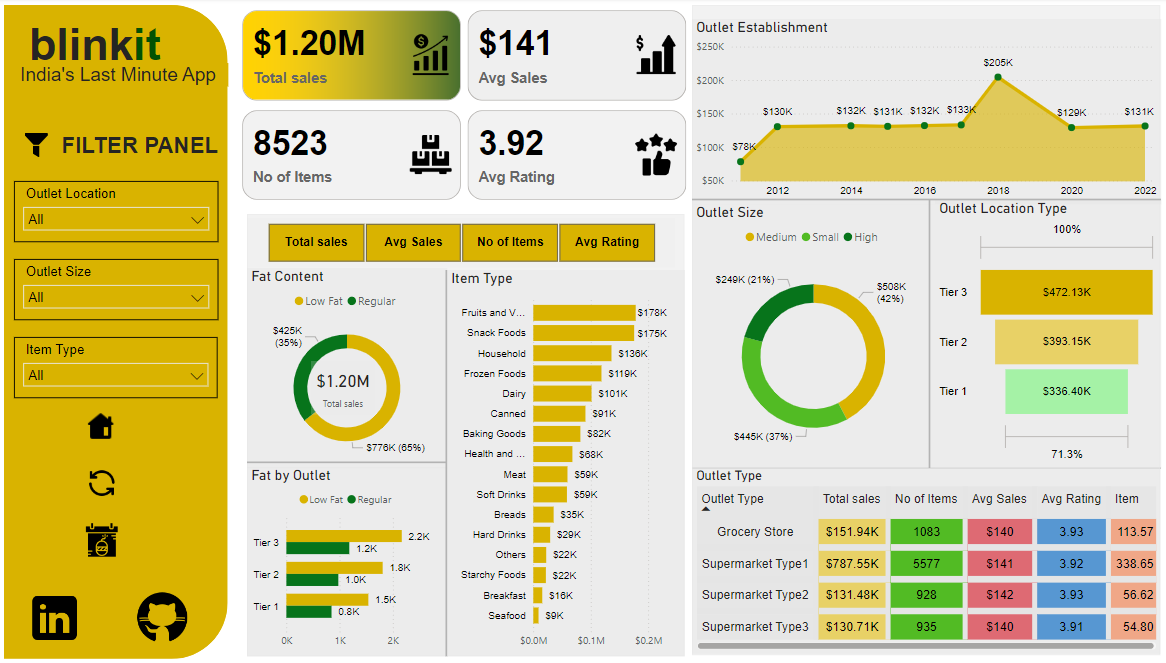

This screenshot's page, from the dashboard's own definition file:
{"tool":"powerbi","page":{"name":"Page 1","canvas":[1400,800],"ordinal":0},"visuals":[{"type":"shape","box":[9.9,8.5,266.7,780.4],"z":0},{"type":"actionButton","title":"blink","box":[14.1,25.4,149.6,66.3],"z":1000},{"type":"actionButton","title":"it","box":[163.7,25.4,80.4,66.3],"z":2000},{"type":"actionButton","title":"India''s Last Minute App","box":[14.1,77.6,262.5,28.2],"z":3000},{"type":"image","box":[9.9,155.2,76.2,40.9],"z":4000},{"type":"actionButton","title":"FILTER PANEL","box":[62.1,160.9,203.2,31],"z":5000},{"type":"slicer","fields":{"Values":["BlinkIT Grocery Data.Outlet Location Type"]},"box":[21.2,218.8,244.2,73.4],"z":6000},{"type":"slicer","fields":{"Values":["BlinkIT Grocery Data.Outlet Size"]},"box":[21.2,311.7,244.2,73.4],"z":7000},{"type":"slicer","fields":{"Values":["BlinkIT Grocery Data.Item Type"]},"box":[21.5,404.6,243.5,72.8],"z":8000},{"type":"cardVisual","fields":{"Data":["Measure Table.Total sales","Measure Table.Avg Sales"]},"box":[289.3,9.9,541.9,118.5],"z":9000},{"type":"cardVisual","fields":{"Data":["Measure Table.No of Items","Measure Table.Avg Rating"]},"box":[289.3,128.4,541.9,117.1],"z":10000},{"type":"shape","box":[299.2,258.3,522.2,527.8],"z":11000},{"type":"slicer","fields":{"Values":["Metrics.Metrics"]},"box":[299.2,262.5,510.9,59.3],"z":12000},{"type":"donutChart","title":" Fat Content","fields":{"Category":["BlinkIT Grocery Data.Item Fat Content"],"Y":["Measure Table.Total sales"]},"box":[299.2,321.8,238.5,238.5],"z":12001},{"type":"card","fields":{"Values":["Measure Table.Total sales"]},"box":[375.4,433.3,76.2,63.5],"z":12002},{"type":"barChart","title":"Item Type","fields":{"Category":["BlinkIT Grocery Data.Item Type"],"Y":["Measure Table.Total sales"]},"box":[538.3,324.6,284.1,460.7],"z":12003},{"type":"clusteredBarChart","title":" Fat by Outlet ","fields":{"Y":["CountNonNull(BlinkIT Grocery Data.Item Fat Content)"],"Category":["BlinkIT Grocery Data.Outlet Location Type"],"Series":["BlinkIT Grocery Data.Item Fat Content"]},"box":[299.2,560.3,238.5,225.8],"z":12004},{"type":"shape","box":[830.7,551.4,559.8,19.1],"z":12005},{"type":"shape","box":[530.6,324.6,12.7,461.5],"z":12006},{"type":"shape","box":[831.3,8.5,558.9,776.2],"z":12007},{"type":"areaChart","title":"Outlet Establishment","fields":{"Y":["Measure Table.Total sales"],"Category":["BlinkIT Grocery Data.Outlet Establishment Year"]},"box":[830.7,25.1,559.8,220.8],"z":12008},{"type":"donutChart","title":"Outlet Size","fields":{"Category":["BlinkIT Grocery Data.Outlet Size"],"Y":["Measure Table.Total sales"]},"box":[830.7,245.9,290,315.1],"z":12009},{"type":"funnel","title":"Outlet Location Type","fields":{"Category":["BlinkIT Grocery Data.Outlet Location Type"],"Y":["Measure Table.Total sales"]},"box":[1120.7,241.1,279.3,319.9],"z":12010},{"type":"tableEx","title":"Outlet Type","fields":{"Values":["BlinkIT Grocery Data.Outlet Type","Measure Table.Total sales","Measure Table.No of Items","Measure Table.Avg Sales","Measure Table.Avg Rating","Sum(BlinkIT Grocery Data.Item Visibility)"]},"box":[830.7,559.8,569.3,223.2],"z":12011},{"type":"shape","box":[1107.6,241.1,13.1,319.9],"z":12012},{"type":"shape","box":[830.7,233.9,559.8,13.1],"z":12013},{"type":"shape","box":[299.2,547.6,238.5,12.7],"z":12014},{"type":"image","box":[33.4,693.4,72.8,93.1],"z":12016},{"type":"image","box":[154,701.8,89.5,75.2],"z":12017},{"type":"image","box":[88.3,621.8,76.4,50.1],"z":12018},{"type":"image","box":[88.3,555,75.2,47.7],"z":12019},{"type":"image","box":[85.9,488.2,78.8,47.7],"z":12020}]}

Visuals, with their boxes in screenshot pixels (x1, y1, x2, y2), scaled from the page's 1400x800 canvas onto the 1166x663 screenshot:
shape: bbox(8, 7, 230, 654)
"blink" actionButton: bbox(12, 21, 136, 76)
"it" actionButton: bbox(136, 21, 203, 76)
"India''s Last Minute App" actionButton: bbox(12, 64, 230, 88)
image: bbox(8, 129, 72, 163)
"FILTER PANEL" actionButton: bbox(52, 133, 221, 159)
slicer - BlinkIT Grocery Data.Outlet Location Type: bbox(18, 181, 221, 242)
slicer - BlinkIT Grocery Data.Outlet Size: bbox(18, 258, 221, 319)
slicer - BlinkIT Grocery Data.Item Type: bbox(18, 335, 221, 396)
cardVisual - Measure Table.Total sales x Measure Table.Avg Sales: bbox(241, 8, 692, 106)
cardVisual - Measure Table.No of Items x Measure Table.Avg Rating: bbox(241, 106, 692, 203)
shape: bbox(249, 214, 684, 651)
slicer - Metrics.Metrics: bbox(249, 218, 675, 267)
" Fat Content" donutChart: bbox(249, 267, 448, 464)
card - Measure Table.Total sales: bbox(313, 359, 376, 412)
"Item Type" barChart: bbox(448, 269, 685, 651)
" Fat by Outlet " clusteredBarChart: bbox(249, 464, 448, 651)
shape: bbox(692, 457, 1158, 473)
shape: bbox(442, 269, 452, 651)
shape: bbox(692, 7, 1158, 650)
"Outlet Establishment" areaChart: bbox(692, 21, 1158, 204)
"Outlet Size" donutChart: bbox(692, 204, 933, 465)
"Outlet Location Type" funnel: bbox(933, 200, 1165, 465)
"Outlet Type" tableEx: bbox(692, 464, 1165, 649)
shape: bbox(922, 200, 933, 465)
shape: bbox(692, 194, 1158, 205)
shape: bbox(249, 454, 448, 464)
image: bbox(28, 575, 88, 652)
image: bbox(128, 582, 203, 644)
image: bbox(74, 515, 137, 557)
image: bbox(74, 460, 136, 499)
image: bbox(72, 405, 137, 444)
